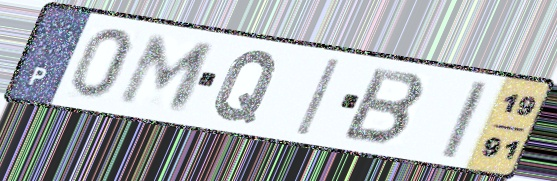0: (67, 25, 137, 103)
B: (338, 65, 430, 148)
I: (437, 78, 492, 161), (293, 55, 345, 139)
M: (113, 32, 221, 113)
Q: (208, 48, 283, 126)
